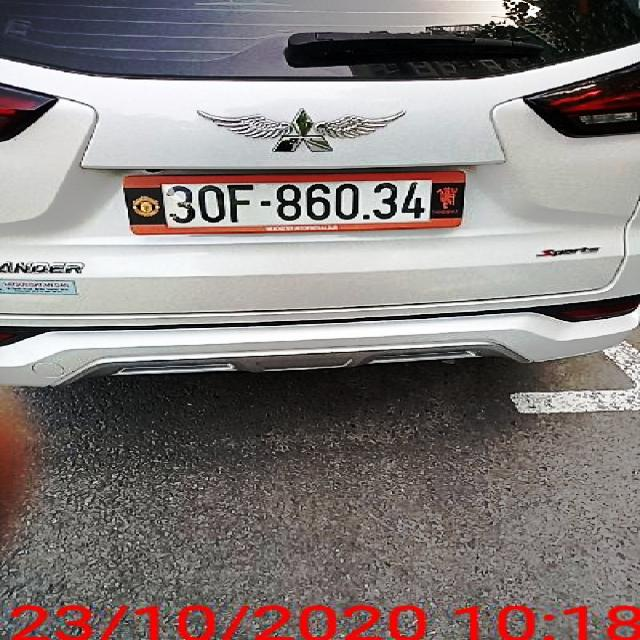license_plate: (161, 179, 437, 232)
